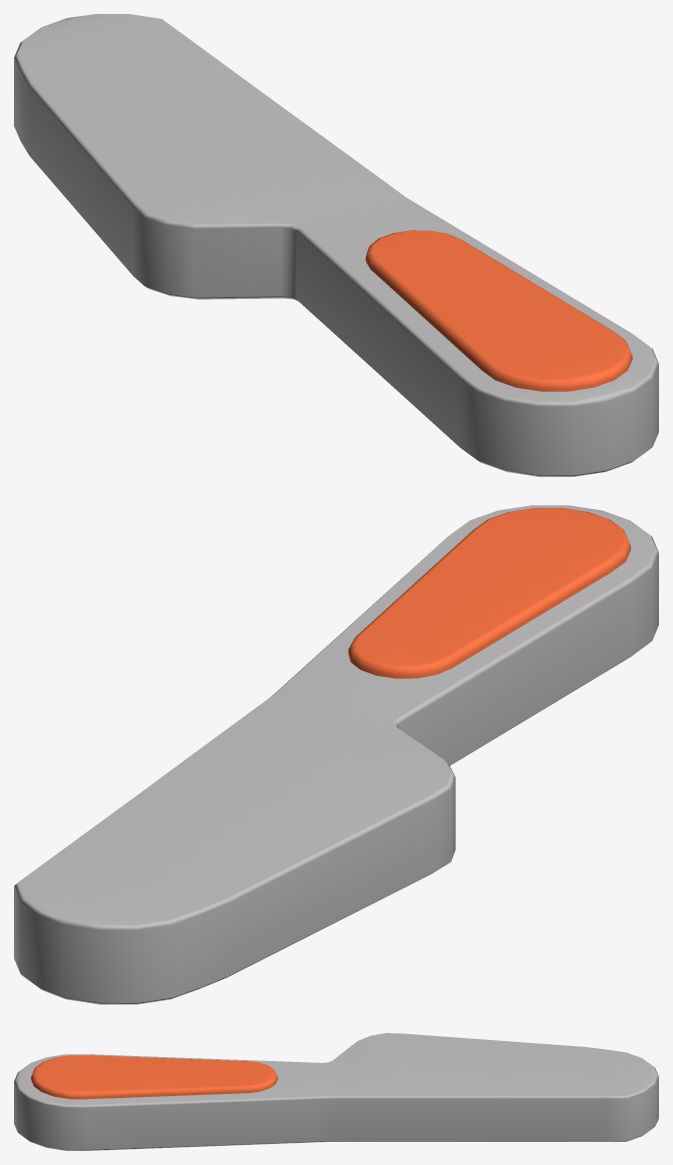
Rendered from Store_18_Knife_1.glb.
3 renders of one model, top to bottom at view 1: azimuth 30°, elevation 25°; view 2: azimuth 150°, elevation 25°; view 3: azimuth 270°, elevation 25°, orthographic. The views are drawn at different scales.
Parts seen in each view (by area): view 1: Store_18_Knife_1; view 2: Store_18_Knife_1; view 3: Store_18_Knife_1.
Boxes of the visible parts, x1,y1,x2,y2 form: Store_18_Knife_1: (14,14,658,476); Store_18_Knife_1: (14,505,658,1004); Store_18_Knife_1: (14,1033,658,1150).
Bounding box in the file's own units: 0.1198 × 0.0397 × 0.4422.
1 material, 1 textured.
